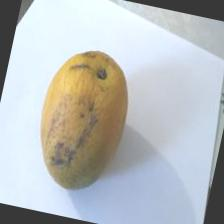Orange Rotten: (18, 35, 153, 209)
